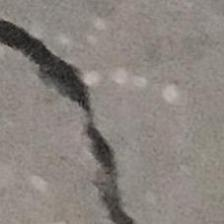Crack: (0, 4, 223, 224)
